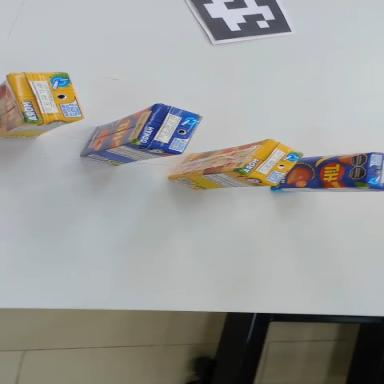HIT-MANGO: (74, 97, 206, 172), (271, 152, 384, 192)
HIT-MORA: (167, 138, 303, 192), (0, 73, 82, 138)
cara_F: (73, 104, 164, 156), (166, 140, 270, 177), (270, 154, 371, 189), (0, 76, 26, 134)
